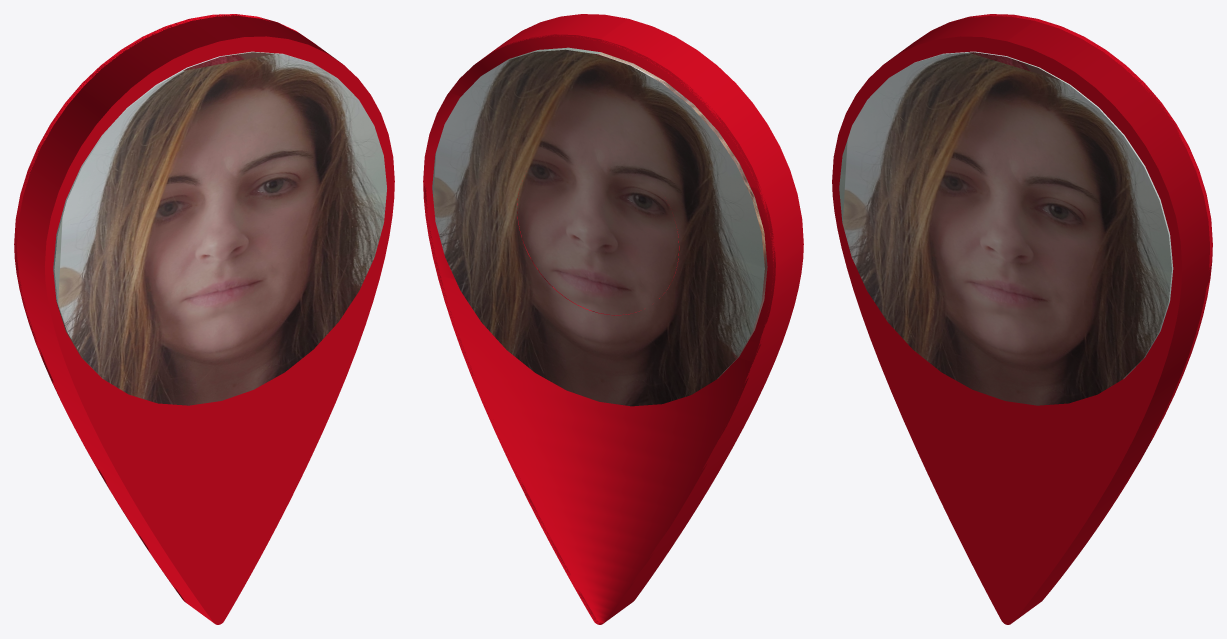
The model's file is sandrine.glb.
The picture shows the model from 3 angles, left to right: view 1: azimuth 30°, elevation 25°; view 2: azimuth 150°, elevation 25°; view 3: azimuth 330°, elevation 25°; orthographic projection.
Visible parts, largest first — view 1: Cylindre, Curve; view 2: Cylindre, Curve; view 3: Cylindre, Curve.
Boxes of the visible parts, left/top/right/bottom form: Cylindre: left=53, top=51, right=386, bottom=405; Curve: left=14, top=14, right=394, bottom=624; Cylindre: left=432, top=47, right=767, bottom=406; Curve: left=423, top=14, right=803, bottom=624; Cylindre: left=839, top=51, right=1173, bottom=405; Curve: left=832, top=14, right=1212, bottom=624.
Size of the model in its own units: 0.2766 by 0.4404 by 0.0448.
Materials: 2 (1 with a texture image).
